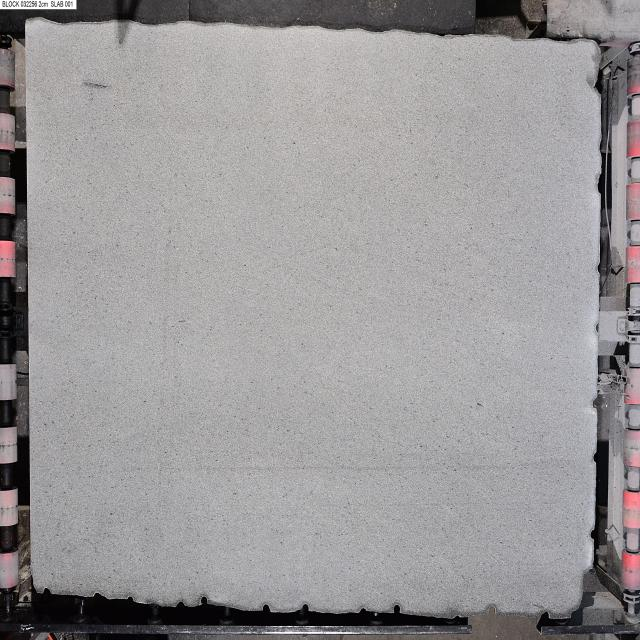chapa: (26, 19, 600, 616)
veio: (539, 607, 551, 625), (486, 602, 497, 620), (199, 592, 211, 608), (392, 602, 403, 618), (302, 600, 310, 618), (260, 603, 270, 616)
